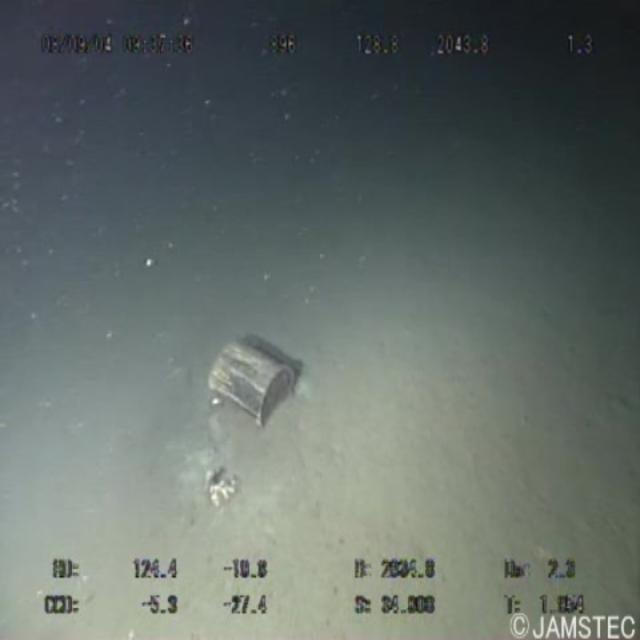Metal: (197, 317, 307, 440)
